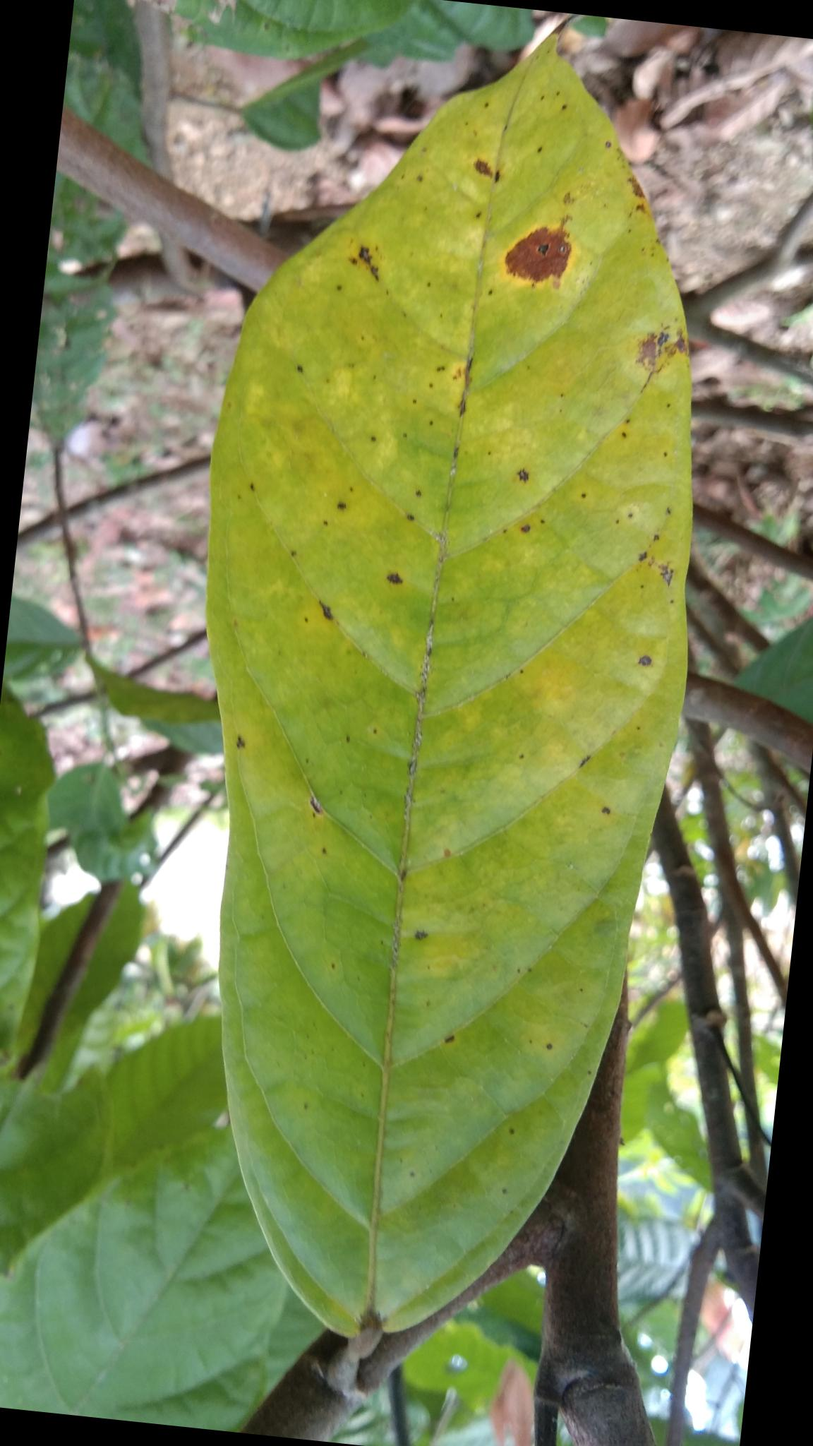Fosforo: (207, 20, 688, 1344)
